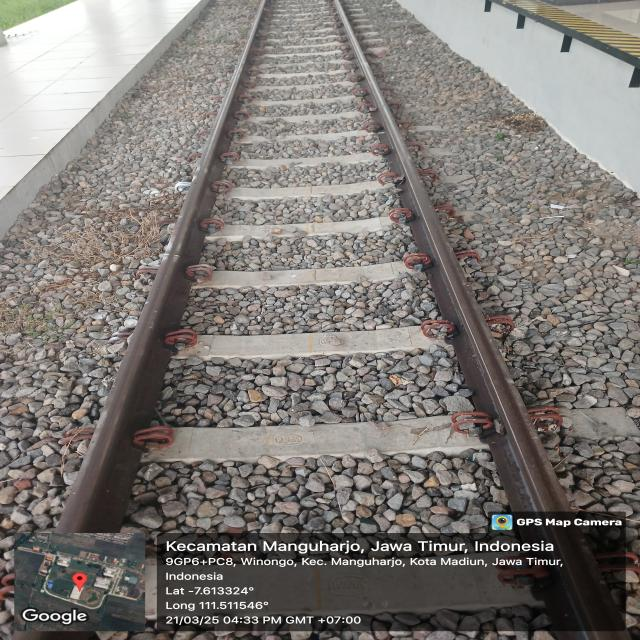rail-detection: (371, 87, 628, 640), (58, 0, 269, 533), (334, 0, 417, 187)
